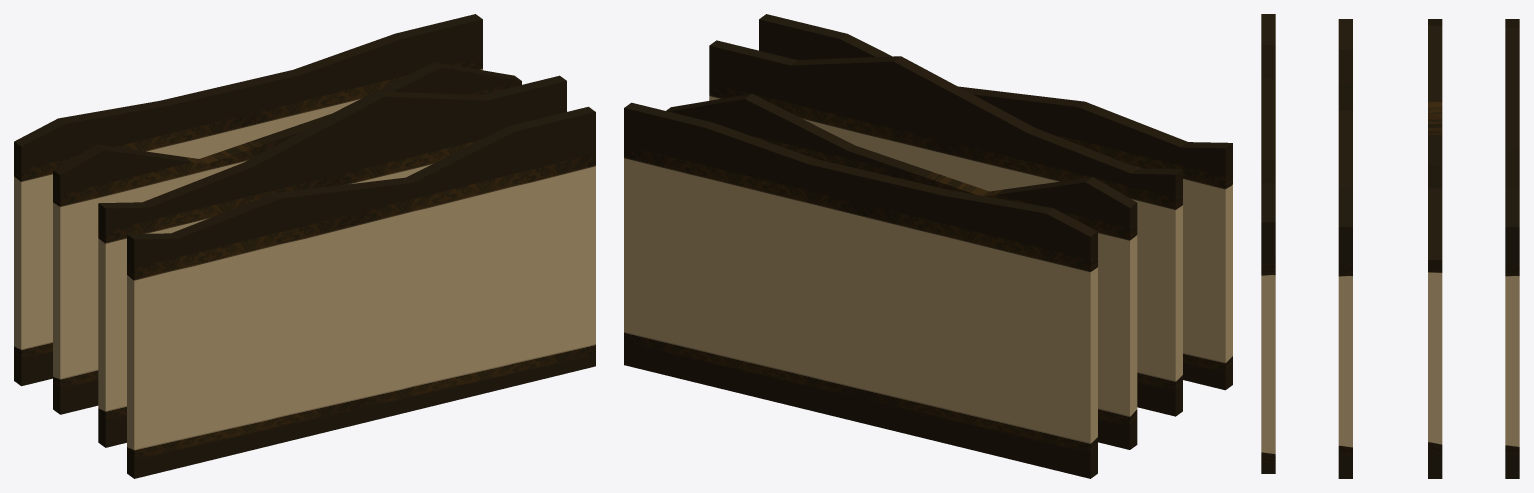
File: Walls.fbx
The picture shows the model from 3 angles, left to right: view 1: azimuth 30°, elevation 25°; view 2: azimuth 150°, elevation 25°; view 3: azimuth 270°, elevation 25°; orthographic projection. The views are drawn at different scales.
Parts seen in each view (by area): view 1: polySurface2, polySurface5, polySurface3, polySurface4; view 2: polySurface5, polySurface3, polySurface2, polySurface4; view 3: polySurface2, polySurface3, polySurface4, polySurface5.
Boxes of the visible parts, x1,y1,x2,y2 form: polySurface2: (127, 106, 595, 478); polySurface5: (14, 14, 482, 386); polySurface3: (98, 75, 566, 447); polySurface4: (53, 62, 521, 414); polySurface5: (624, 102, 1097, 478); polySurface3: (709, 40, 1182, 416); polySurface2: (759, 14, 1232, 390); polySurface4: (666, 93, 1137, 449); polySurface2: (1261, 14, 1275, 473); polySurface3: (1338, 19, 1352, 478); polySurface4: (1428, 19, 1442, 478); polySurface5: (1505, 19, 1519, 478).
Bounding box in the file's own units: 753 × 432 × 361.
